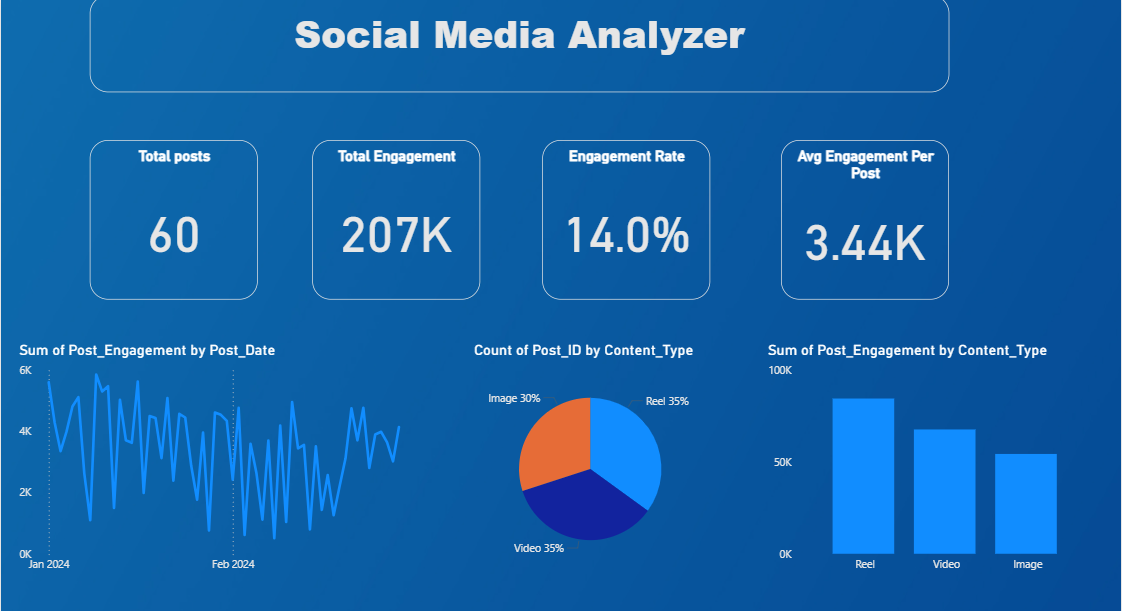

Layout of this report page (visuals, bound fields, positions):
{"tool":"powerbi","page":{"name":"Overview","canvas":[1280,720],"ordinal":0},"visuals":[{"type":"card","title":"Total posts","fields":{"Values":["instagram_sample_dataset.Total Posts"]},"box":[101.5,166,192.1,182.5],"z":0},{"type":"card","title":"Engagement  Rate","fields":{"Values":["instagram_sample_dataset.Engagement Rate"]},"box":[618.9,166,192.1,182.5],"z":1000},{"type":"card","title":"Avg Engagement Per Post","fields":{"Values":["instagram_sample_dataset.Avg Engagement Per Post"]},"box":[891.9,166,192.1,182.5],"z":2000},{"type":"card","title":"Total Engagement","fields":{"Values":["instagram_sample_dataset.Total Engagement"]},"box":[355.4,166,192.1,182.5],"z":3000},{"type":"lineChart","fields":{"Y":["Sum(instagram_sample_dataset.Post_Engagement)"],"Category":["instagram_sample_dataset.Post_Date"]},"box":[15.1,395.2,469.3,273.1],"z":4000},{"type":"pieChart","fields":{"Category":["instagram_sample_dataset.Content_Type"],"Y":["CountNonNull(instagram_sample_dataset.Post_ID)"]},"box":[535.2,395.2,275.8,273.1],"z":5000},{"type":"clusteredColumnChart","fields":{"Category":["instagram_sample_dataset.Content_Type"],"Y":["Sum(instagram_sample_dataset.Post_Engagement)"]},"box":[871.4,395.2,381.5,273.1],"z":6000},{"type":"textbox","box":[101.5,0,982.5,111.1],"z":7000}]}

Visuals, with their boxes on the page's 1280x720 design canvas (x1, y1, x2, y2). These are canvas units, not pixel positions in the 1122x611 screenshot, which may show the page scaled, cropped or inside an application window:
"Total posts" card: 102, 166, 294, 348
"Engagement  Rate" card: 619, 166, 811, 348
"Avg Engagement Per Post" card: 892, 166, 1084, 348
"Total Engagement" card: 355, 166, 548, 348
lineChart - Sum(instagram_sample_dataset.Post_Engagement) x instagram_sample_dataset.Post_Date: 15, 395, 484, 668
pieChart - instagram_sample_dataset.Content_Type x CountNonNull(instagram_sample_dataset.Post_ID): 535, 395, 811, 668
clusteredColumnChart - instagram_sample_dataset.Content_Type x Sum(instagram_sample_dataset.Post_Engagement): 871, 395, 1253, 668
textbox: 102, 0, 1084, 111
